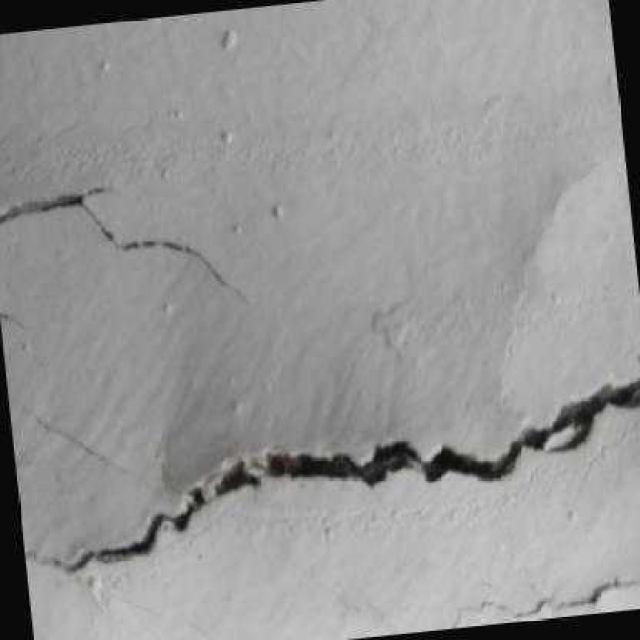D00: (56, 371, 640, 582)
